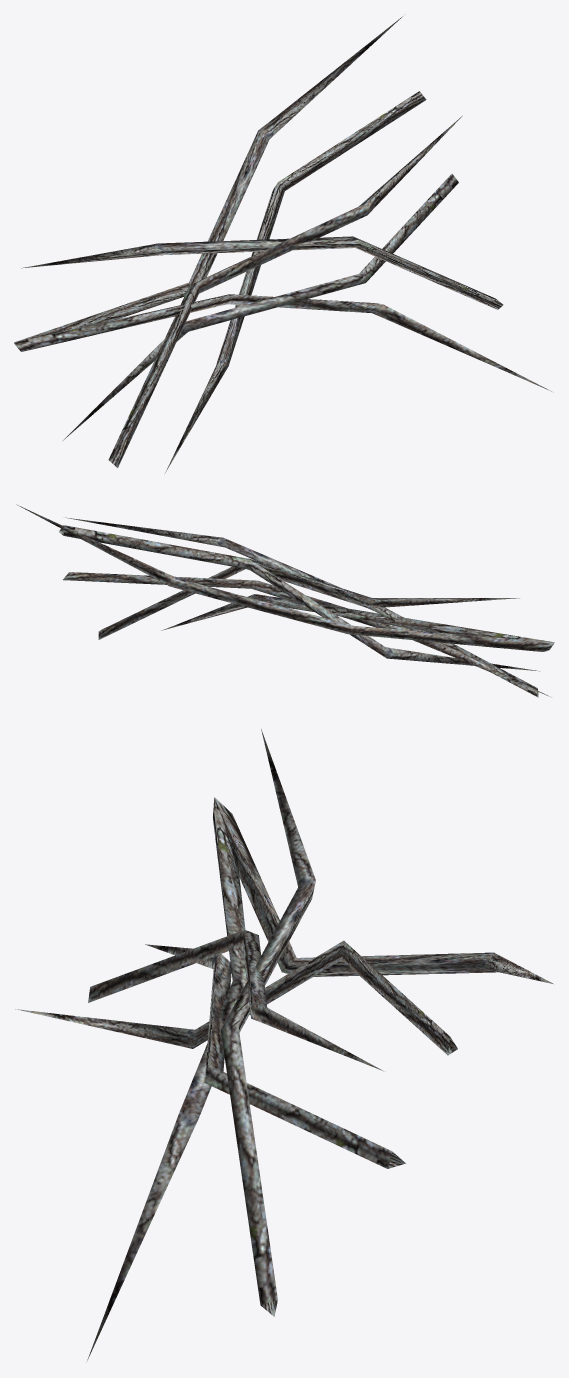
Rendered from Branches_Small_01.obj.
3 views of the same model, one above another, from view 1: azimuth 30°, elevation 25°; view 2: azimuth 150°, elevation 25°; view 3: azimuth 270°, elevation 25° (orthographic). The views are drawn at different scales.
Visible parts, largest first — view 1: polySurface14; view 2: polySurface14; view 3: polySurface14.
Boxes of the visible parts, x1,y1,x2,y2 form: polySurface14: [14, 16, 553, 472]; polySurface14: [16, 504, 554, 697]; polySurface14: [15, 729, 553, 1360].
Bounding box in the file's own units: 21.57 × 10.57 × 13.43.
Materials: 1 (1 with a texture image).
